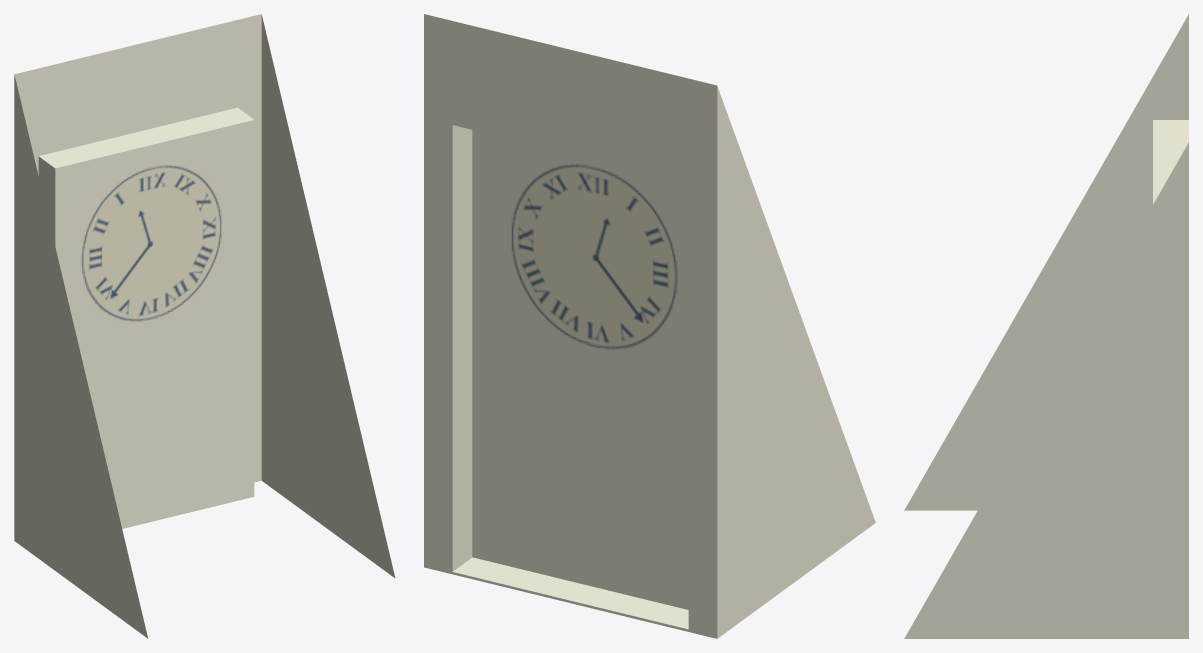
Rendered from orlogeMairie.fbx.
3 views of the same model, side by side, from view 1: azimuth 30°, elevation 25°; view 2: azimuth 150°, elevation 25°; view 3: azimuth 270°, elevation 25° (orthographic). The views are drawn at different scales.
Parts seen in each view (by area): view 1: M.Mairie.LP.003; view 2: M.Mairie.LP.003; view 3: M.Mairie.LP.003.
Boxes of the visible parts, x1,y1,x2,y2 form: M.Mairie.LP.003: (14, 14, 395, 638); M.Mairie.LP.003: (424, 14, 875, 638); M.Mairie.LP.003: (904, 14, 1188, 638).
Size of the model in its own units: 302 by 544 by 283.
